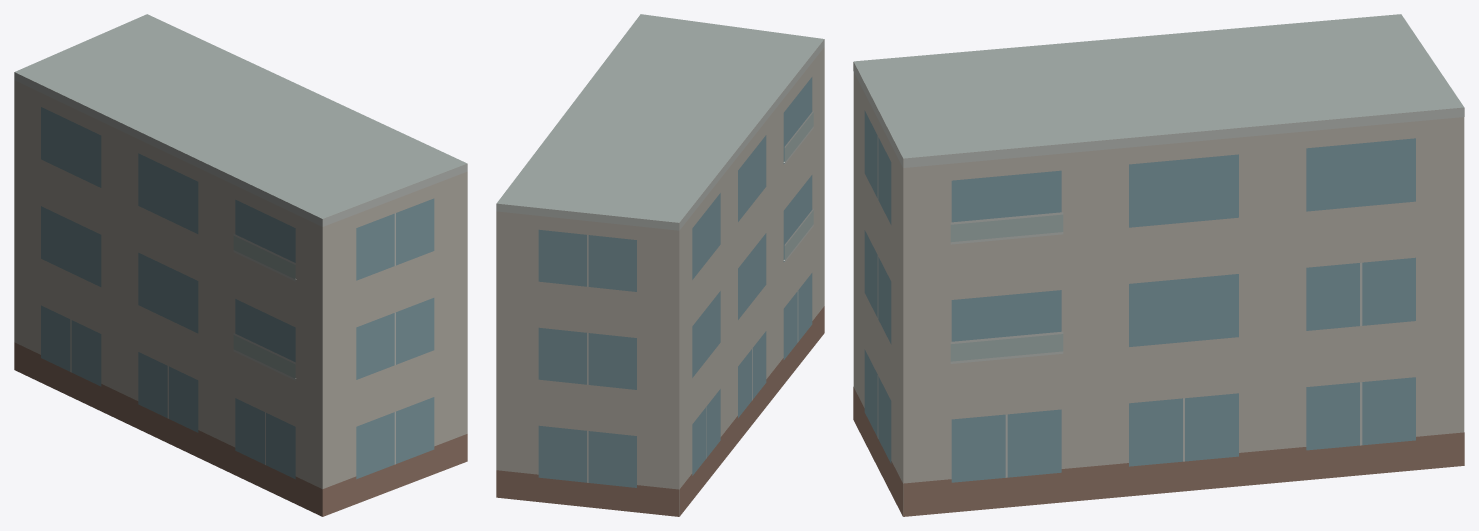
The model's file is survey-upis-32597437.glb.
3 views of the same model, side by side, from view 1: azimuth 30°, elevation 25°; view 2: azimuth 150°, elevation 25°; view 3: azimuth 270°, elevation 25° (orthographic). The views are drawn at different scales.
Visible parts, largest first — view 1: survey-upis-32597437.tmp; view 2: survey-upis-32597437.tmp; view 3: survey-upis-32597437.tmp.
Boxes of the visible parts, left/top/right/bottom form: survey-upis-32597437.tmp: left=14, top=14, right=467, bottom=516; survey-upis-32597437.tmp: left=496, top=14, right=824, bottom=516; survey-upis-32597437.tmp: left=853, top=14, right=1464, bottom=516.
Bounding box in the file's own units: 7.93 × 9.15 × 14.15.
